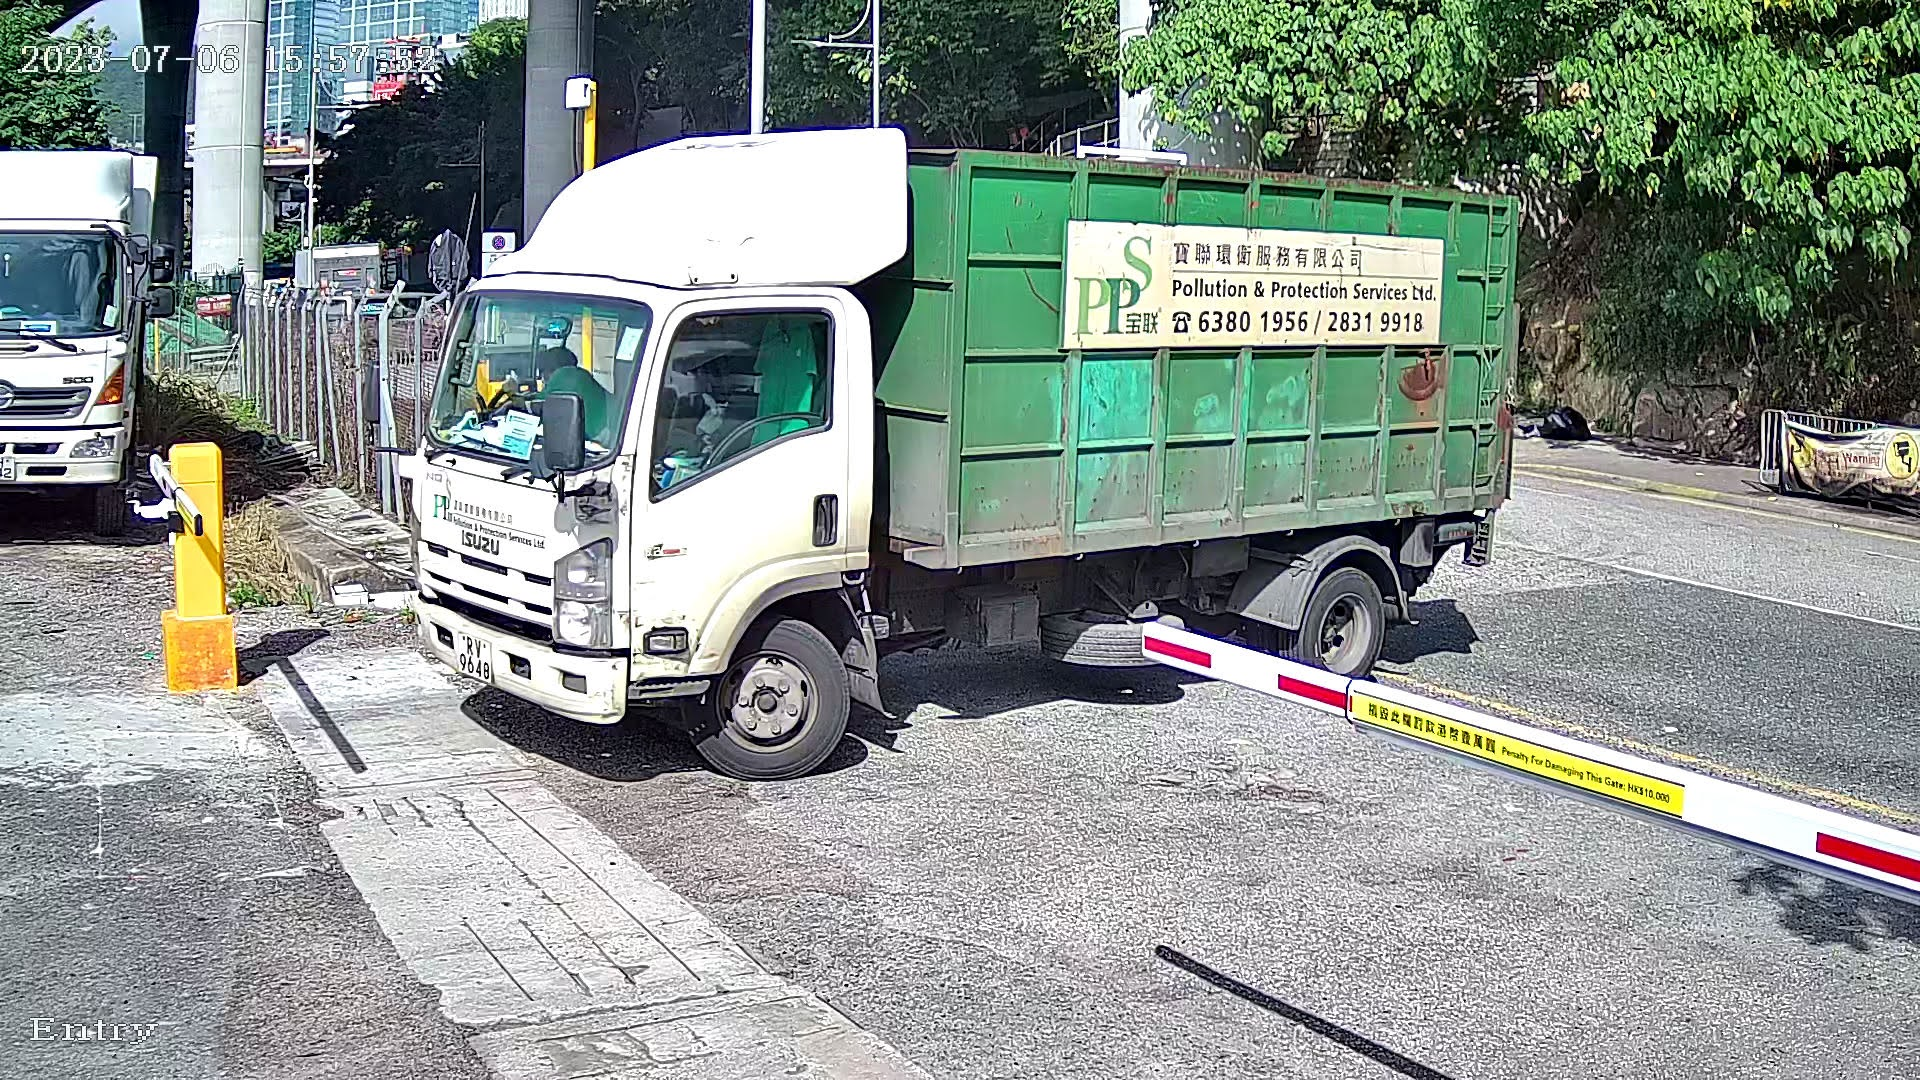truck_small: (382, 96, 1567, 818)
